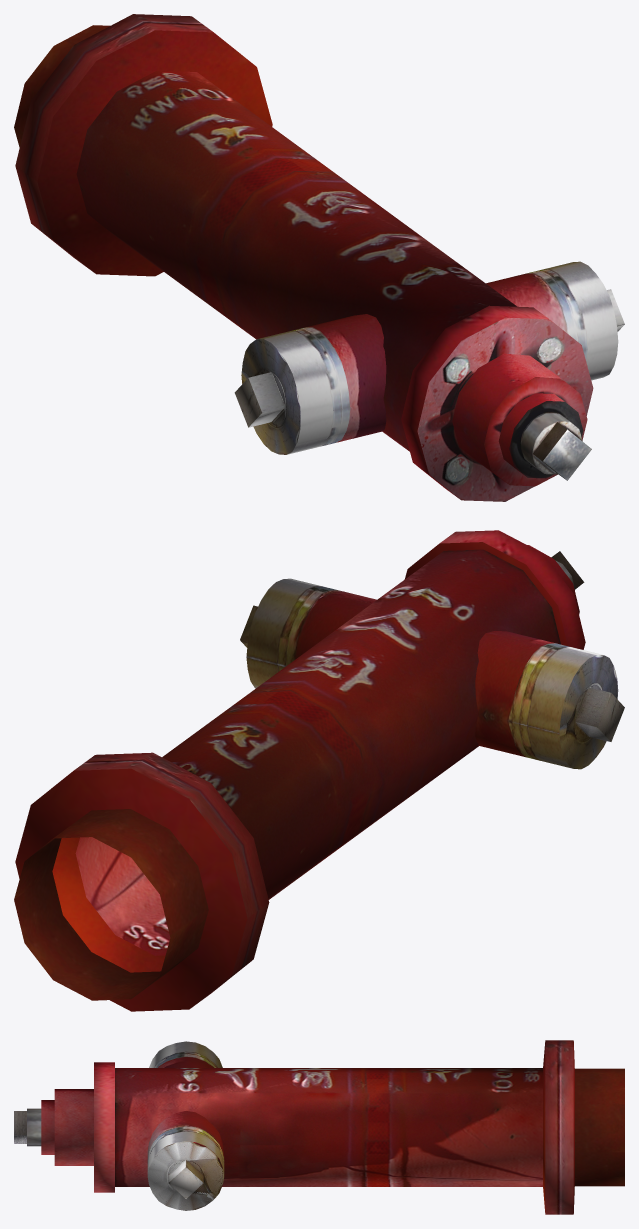
Rendered from RTE3101220512_0003L_01_normalization.obj.
3 renders of one model, top to bottom at view 1: azimuth 30°, elevation 25°; view 2: azimuth 150°, elevation 25°; view 3: azimuth 270°, elevation 25°, orthographic. The views are drawn at different scales.
Parts seen in each view (by area): view 1: firepump; view 2: firepump; view 3: firepump.
Part boxes in pixels (<box>): firepump: <box>14,14,624,501</box>; firepump: <box>14,530,624,1011</box>; firepump: <box>14,1040,624,1214</box>.
Bounding box in the file's own units: 0.3909 × 0.2535 × 0.8849.
Materials: 1 (1 with a texture image).
